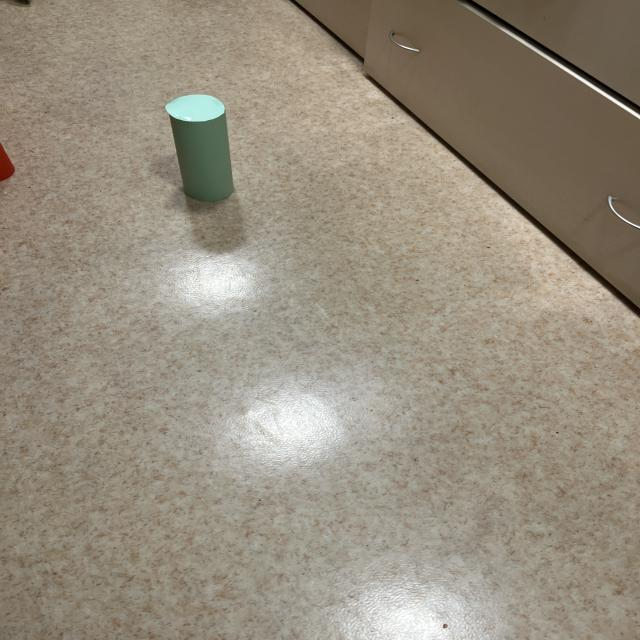meta: (166, 94, 234, 202)
